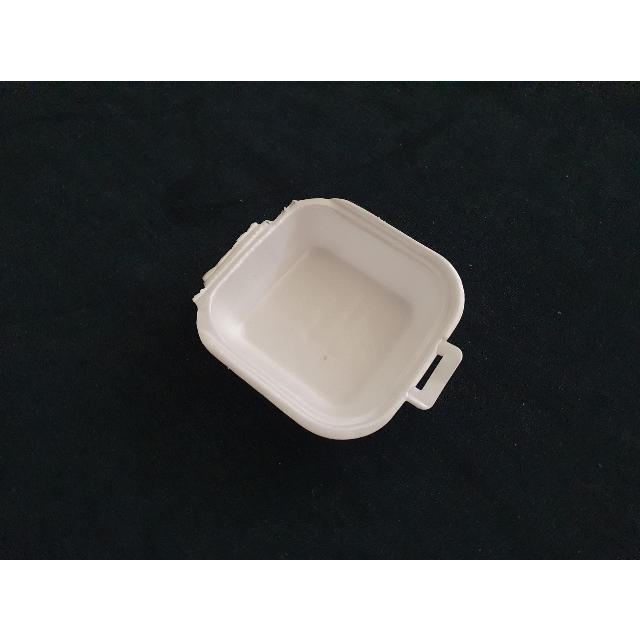Recipiente plastico: (194, 199, 464, 439)
